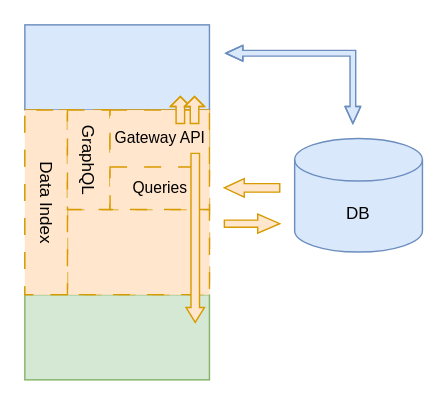
Image size: 447x405. Some labels were removed from this diagram. The shapes that lost their labels are listed below. From the top down, each one's centre as x and y in pixels, then its label:
the point at 116,66: Workflow (Dev Mode)
the point at 137,251: Data Indexation
the point at 116,336: Embedded Job Service
